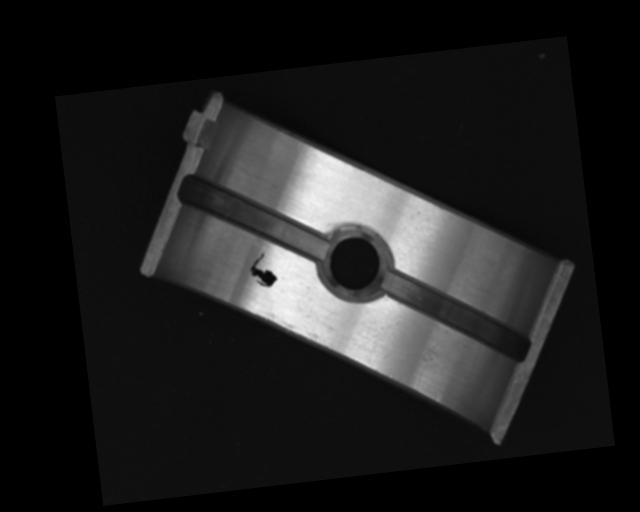blot: (247, 249, 279, 289)
gap: (378, 255, 531, 374), (178, 158, 328, 275)
hole: (319, 226, 386, 298)
